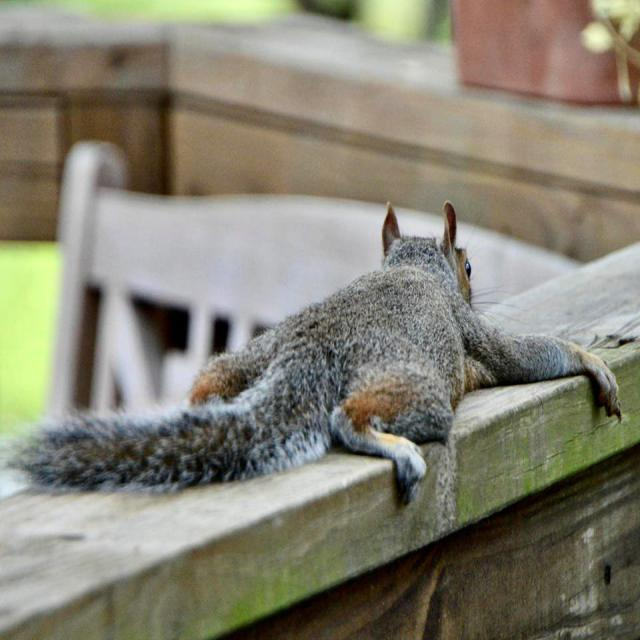squirrel: (9, 202, 621, 503)
